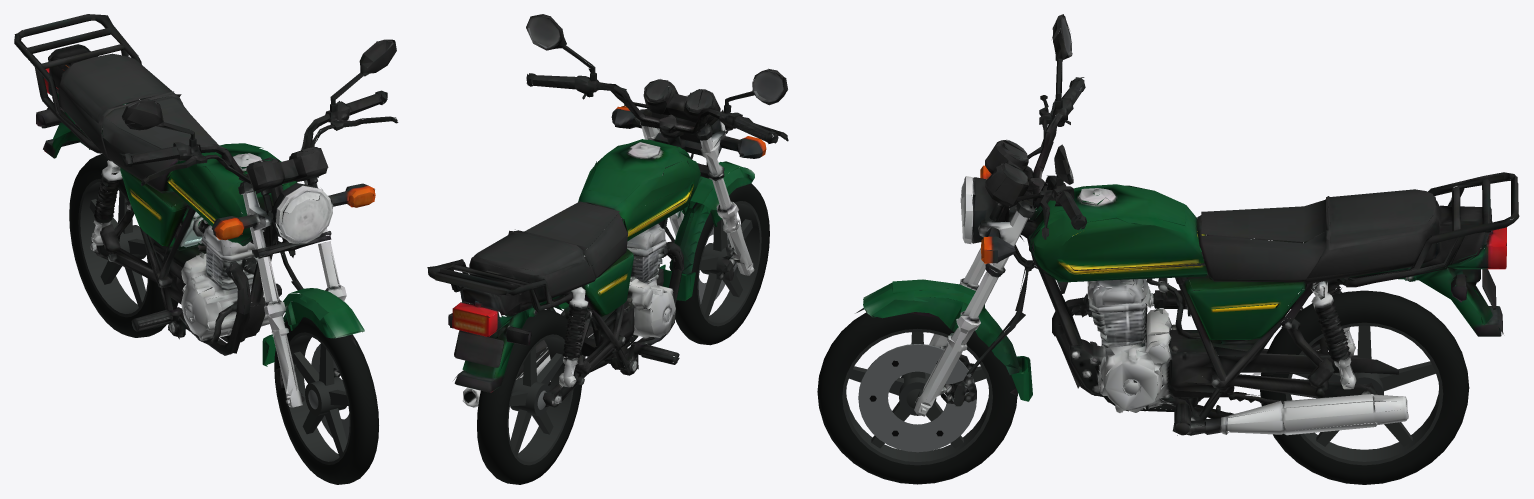
The model's file is moto-0.glb.
3 renders of one model, left to right at view 1: azimuth 30°, elevation 25°; view 2: azimuth 150°, elevation 25°; view 3: azimuth 270°, elevation 25°, orthographic. The views are drawn at different scales.
Parts seen in each view (by area): view 1: Frota_moto, Fork, Tyre_Front, Tyre_Rear; view 2: Frota_moto, Fork, Tyre_Rear, Tyre_Front; view 3: Frota_moto, Fork, Tyre_Front, Tyre_Rear.
Boxes of the visible parts, box(x1,y1,x2,y2) form: Frota_moto: box(14, 14, 297, 355); Fork: box(120, 39, 398, 407); Tyre_Front: box(274, 317, 378, 484); Tyre_Rear: box(69, 153, 178, 337); Frota_moto: box(427, 117, 700, 407); Fork: box(526, 14, 788, 301); Tyre_Rear: box(477, 310, 582, 484); Tyre_Front: box(675, 183, 769, 345); Frota_moto: box(1013, 169, 1519, 435); Fork: box(855, 14, 1087, 416); Tyre_Front: box(817, 312, 1017, 484); Tyre_Rear: box(1260, 290, 1469, 484).
Bounding box in the file's own units: 1.03 × 1.29 × 2.06.
Materials: 1 (1 with a texture image).
